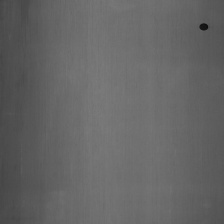punching_hole: (198, 21, 209, 33)
